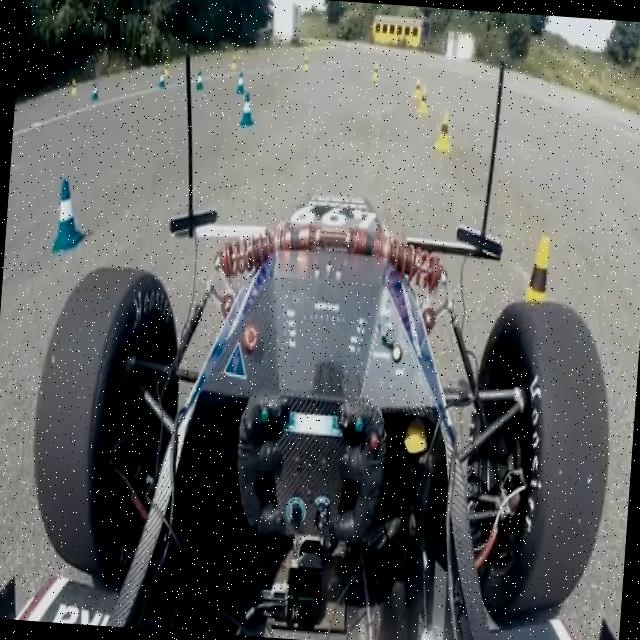blue_cone: (50, 177, 89, 257), (238, 89, 256, 129), (235, 70, 248, 96)
yellow_cone: (505, 231, 558, 351), (434, 108, 455, 150), (417, 86, 431, 114)
